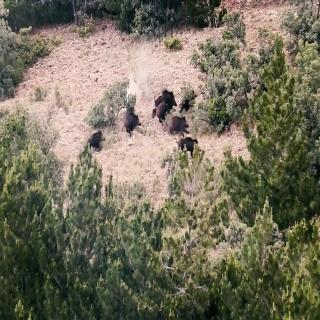Pig: (83, 117, 111, 160), (112, 108, 146, 140), (173, 131, 201, 158), (166, 108, 191, 135), (150, 90, 178, 108)
